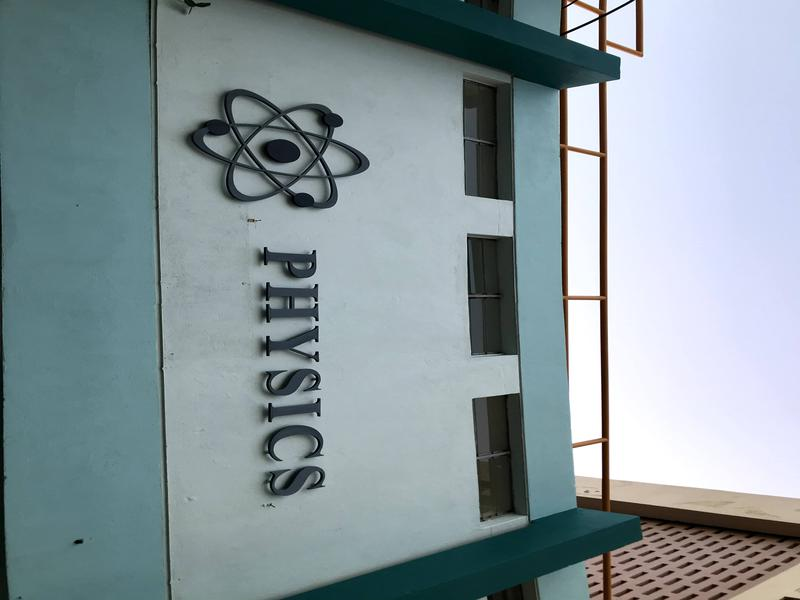18.0053657_-76.7491452_physicssign: (174, 67, 385, 522)
